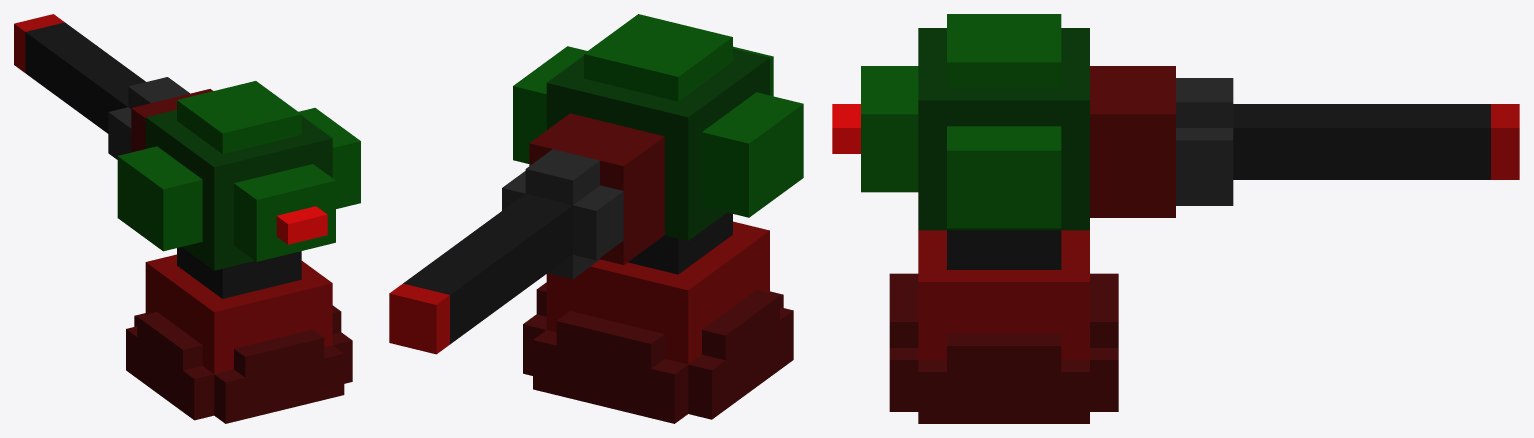
The model's file is basicUpgraded2-1-0.obj.
The picture shows the model from 3 angles, left to right: view 1: azimuth 30°, elevation 25°; view 2: azimuth 150°, elevation 25°; view 3: azimuth 270°, elevation 25°; orthographic projection. The views are drawn at different scales.
Bounding box in the file's own units: 1 × 1.3 × 2.4.
Materials: 1 (1 with a texture image).
